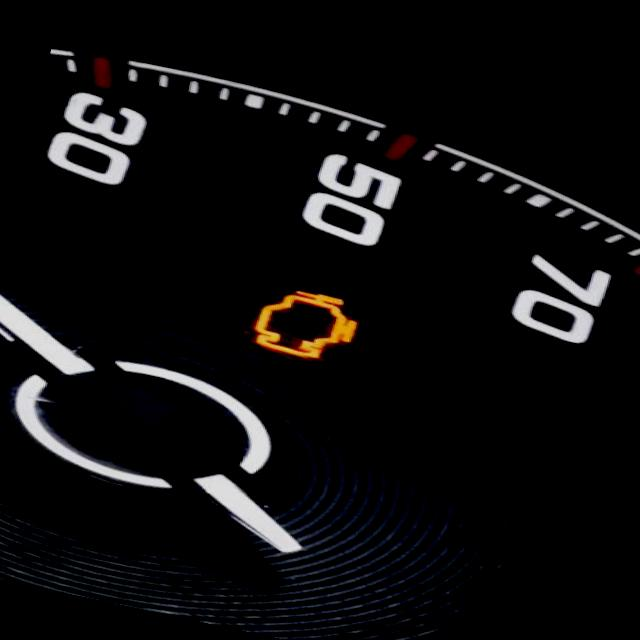kontrolka: (230, 249, 402, 380)
